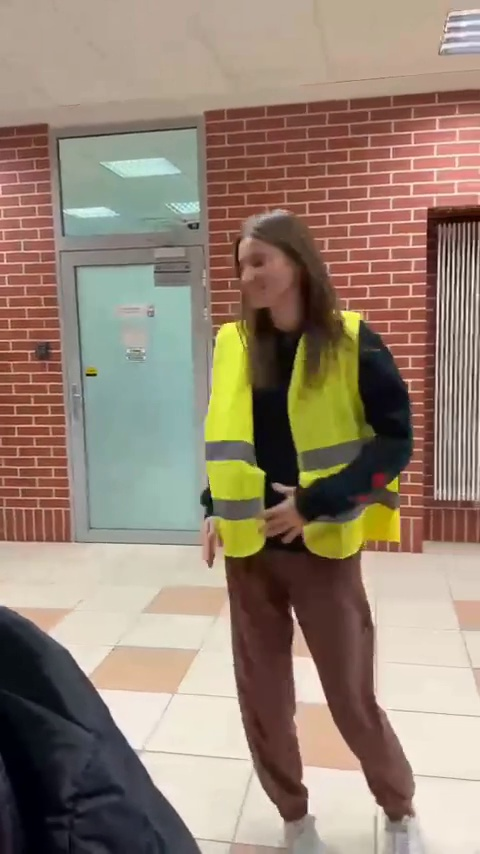vest: (189, 207, 423, 836)
